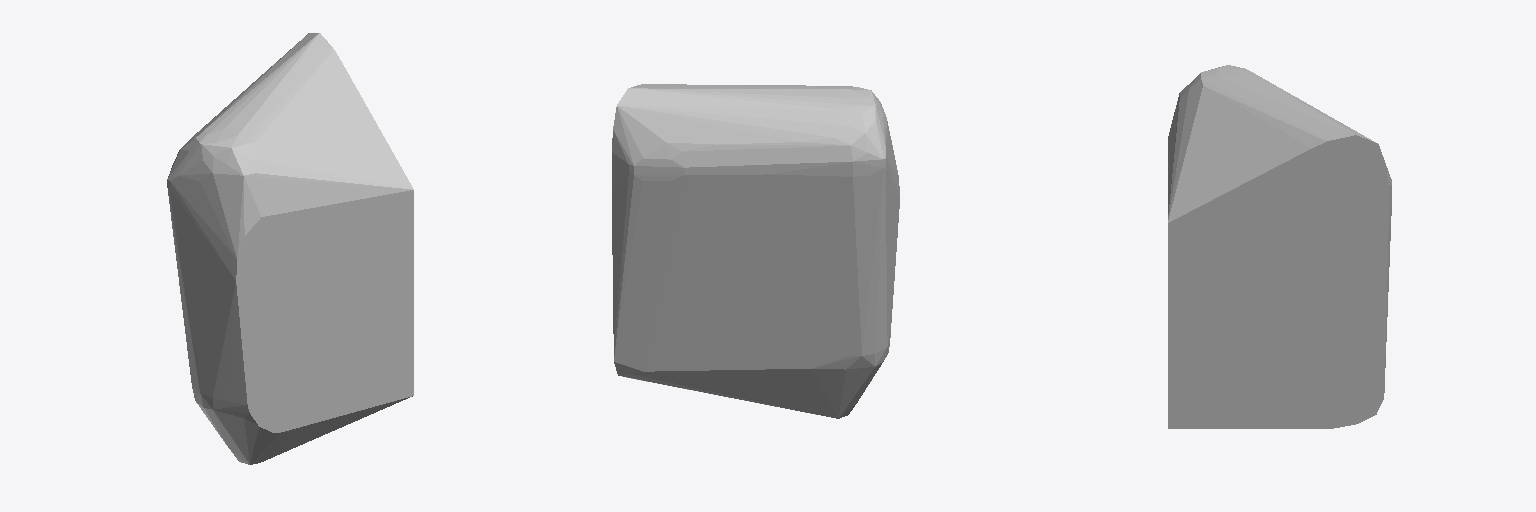
Rendered from sofa_collision_5.obj.
The picture shows the model from 3 angles: view 1: azimuth 30°, elevation 25°; view 2: azimuth 150°, elevation 25°; view 3: azimuth 270°, elevation 25°; orthographic projection.
Size of the model in its own units: 94.26 by 151 by 90.